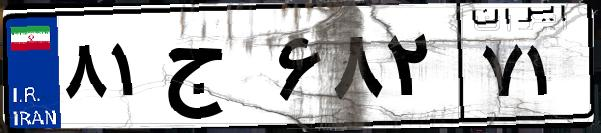1: (525, 38, 570, 115), (110, 28, 158, 98)
2: (385, 28, 445, 110)
6: (270, 28, 330, 110)
7: (475, 38, 525, 113)
8: (330, 28, 385, 110), (57, 26, 110, 100)
ج: (158, 20, 270, 120)
